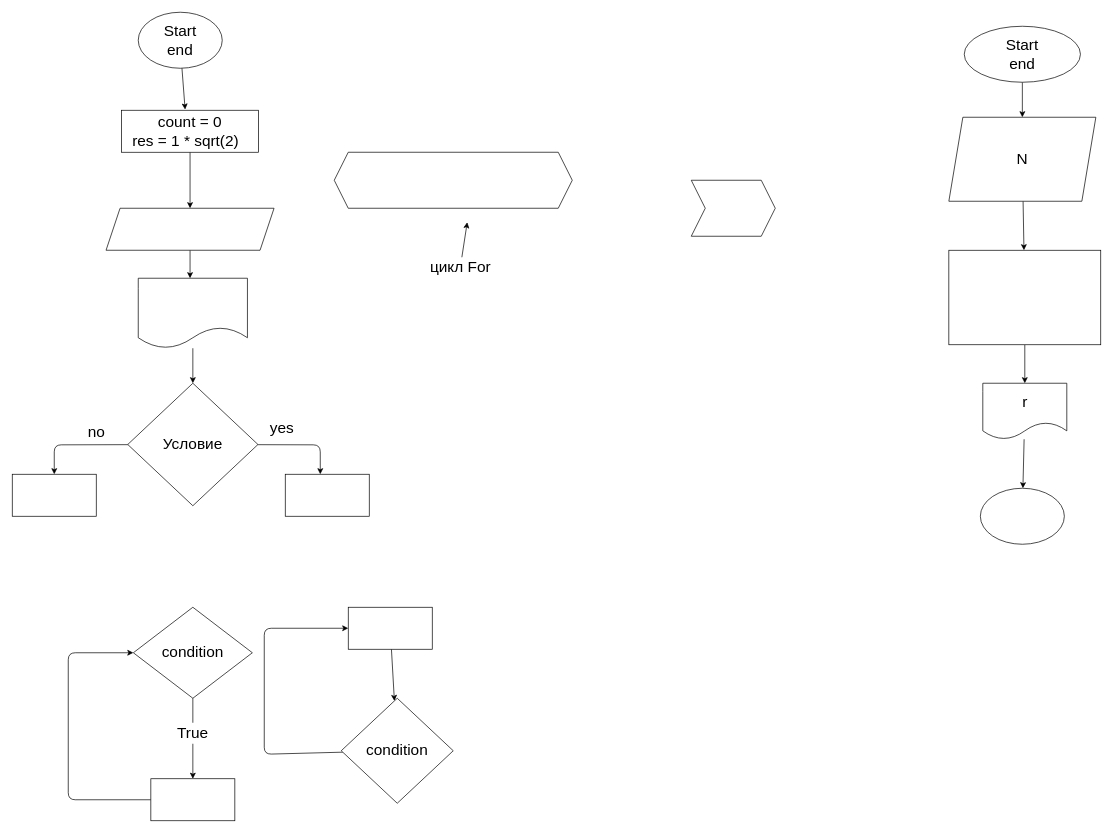
Some shapes in this 1113 by 833 pixel diagram are drawn without their labels. The box of each missing label's shape, as (x1, y1, x2, y2) in pixels:
count = 1, 10, 5: (334, 152, 572, 208)
r = random (1, N): (948, 250, 1101, 345)
Ввод: (105, 208, 274, 250)
Вывод: (138, 278, 247, 348)
